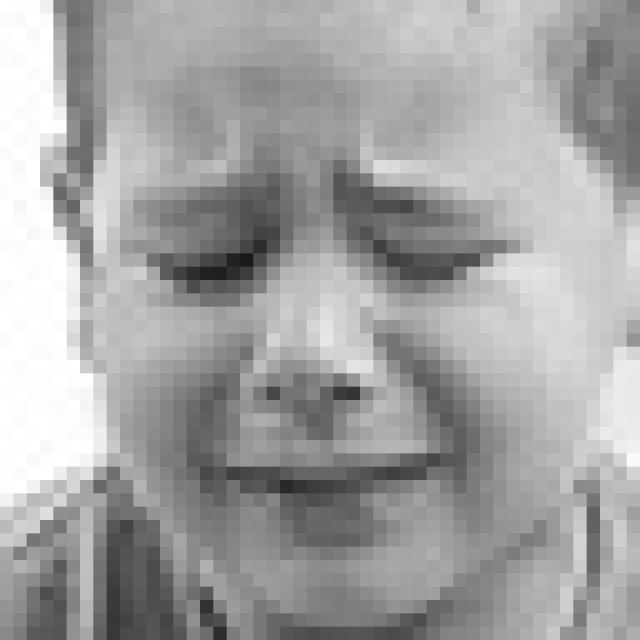sad: (111, 130, 534, 550)
